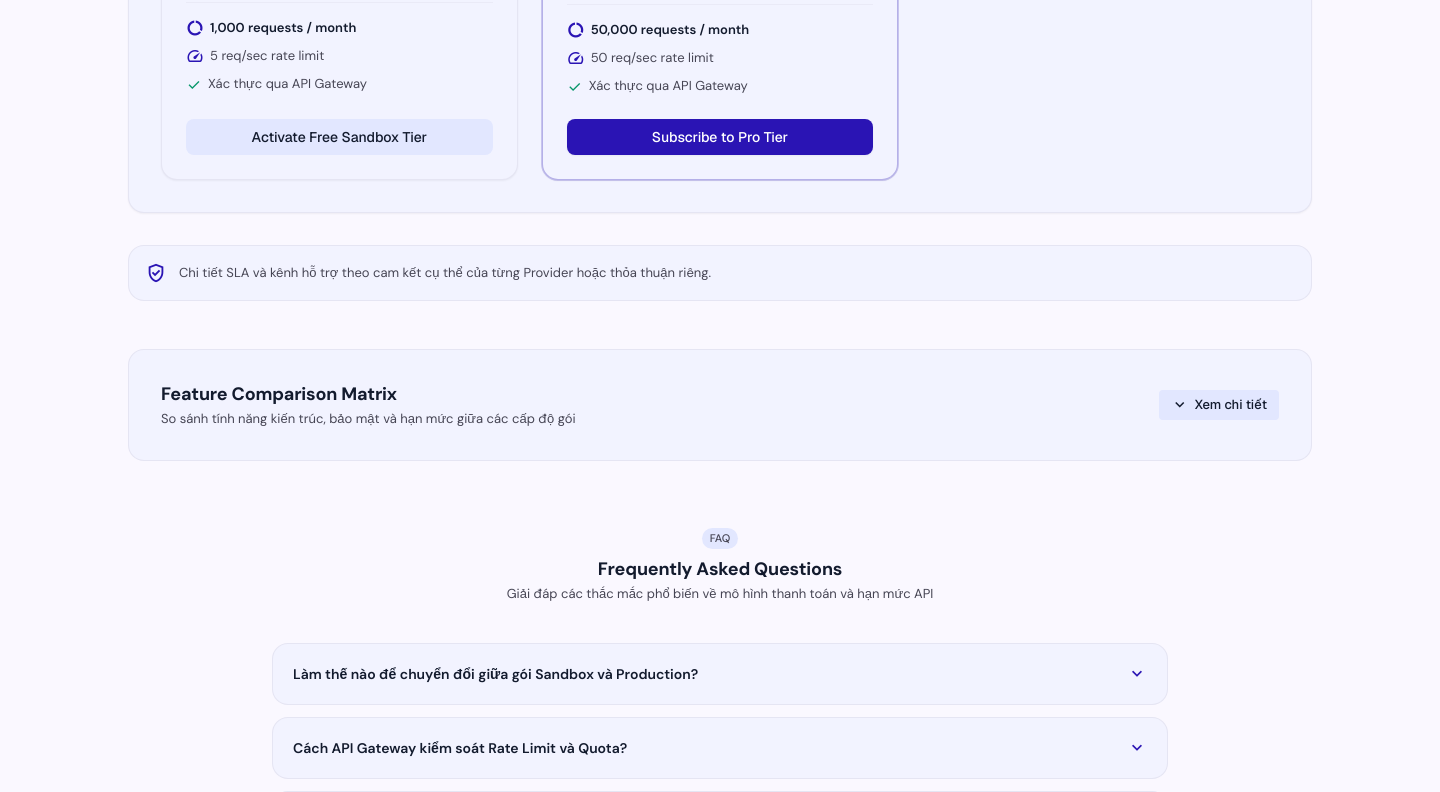
Scenario: PricingPage - Audit Remediation & Price Immutability › grounds feature comparison matrix strictly in backend plan fields and renders Sprint 4 disclaimer
(page scrolled)
# Expand feature comparison matrix
Click the button "Xem chi tiết": (1219, 405) [1159,390,1279,420]
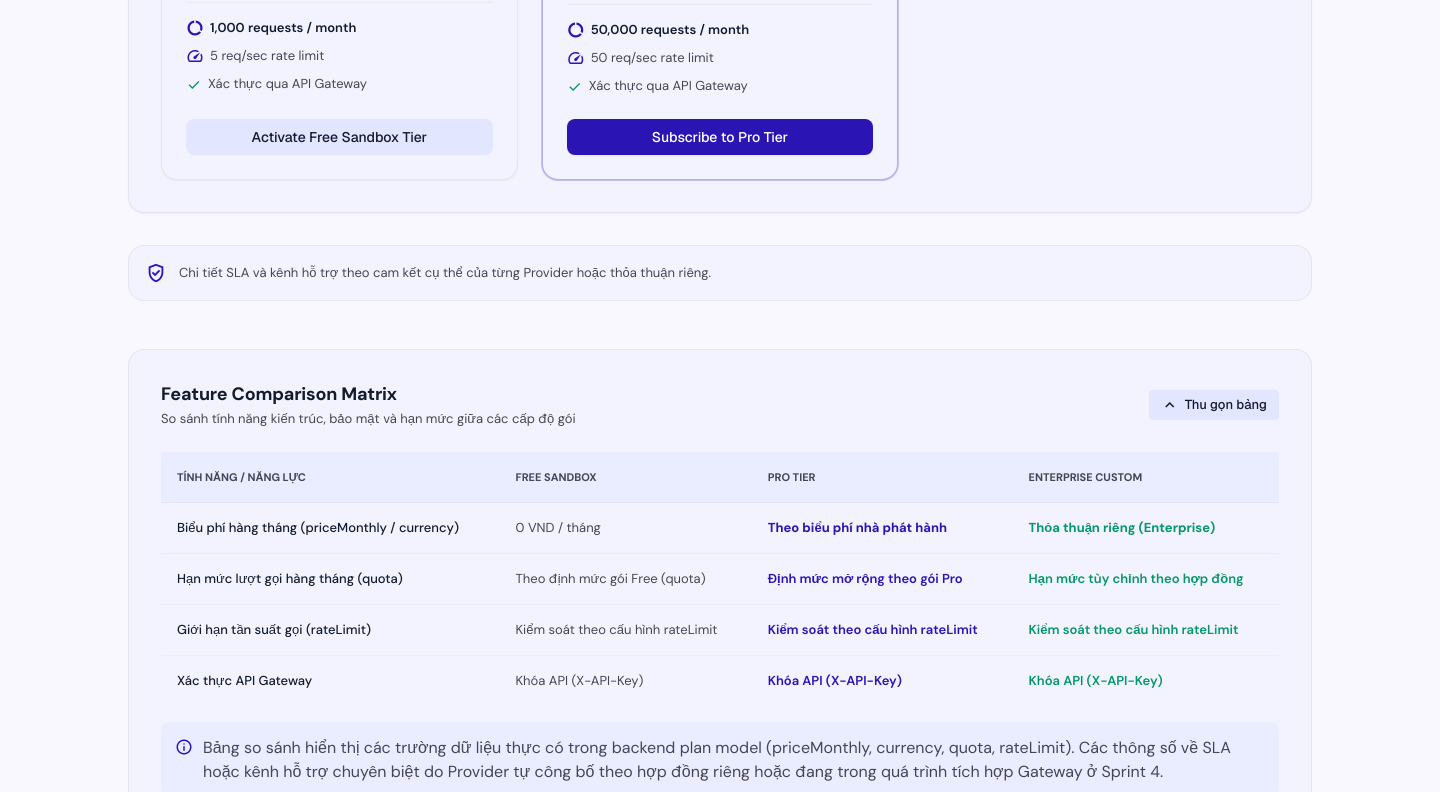
Expected: the text "Biểu phí hàng tháng (priceMonthly / currency)" is shown, [161,502,500,554]
Expected: the text "Hạn mức lượt gọi hàng tháng (quota)" is shown, [161,554,500,604]
Expected: the text "Giới hạn tần suất gọi (rateLimit)" is shown, [161,604,500,656]
